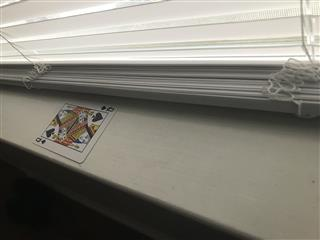QueenOfSpades: (31, 96, 118, 164)
